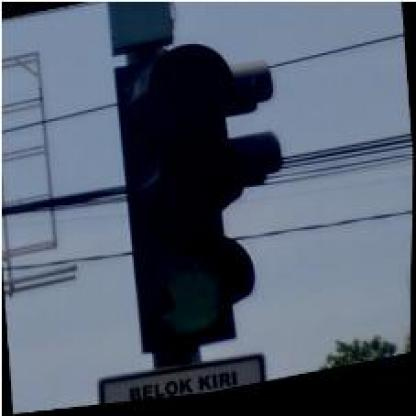green: (104, 35, 263, 361)
